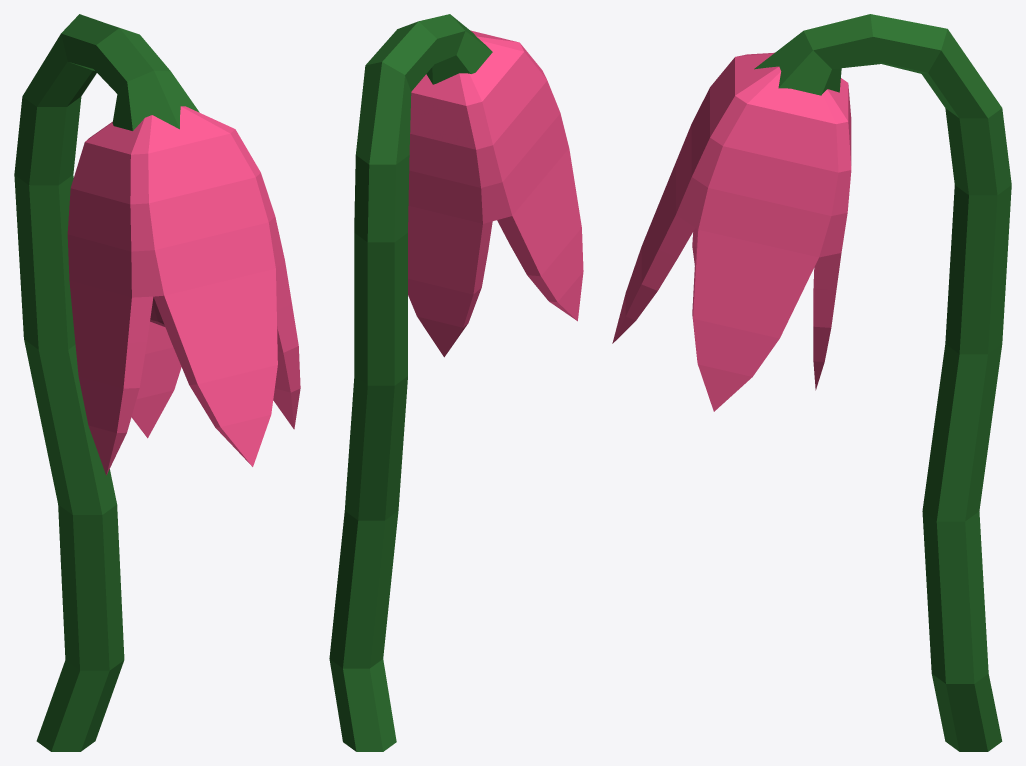
The model's file is Flower_4_Pink.fbx.
3 renders of one model, left to right at view 1: azimuth 30°, elevation 25°; view 2: azimuth 150°, elevation 25°; view 3: azimuth 270°, elevation 25°, orthographic. The views are drawn at different scales.
Parts seen in each view (by area): view 1: Flower_4_Pink_Part_2, Flower_4_Pink_Part_1; view 2: Flower_4_Pink_Part_1, Flower_4_Pink_Part_2; view 3: Flower_4_Pink_Part_1, Flower_4_Pink_Part_2.
Part boxes in pixels (x1,y1,x2,y2): Flower_4_Pink_Part_2: (67,106,300,475); Flower_4_Pink_Part_1: (14,14,199,751); Flower_4_Pink_Part_1: (329,14,492,751); Flower_4_Pink_Part_2: (408,30,583,357); Flower_4_Pink_Part_1: (754,14,1011,751); Flower_4_Pink_Part_2: (612,52,851,411).
Size of the model in its own units: 10.62 by 40.62 by 20.22.
